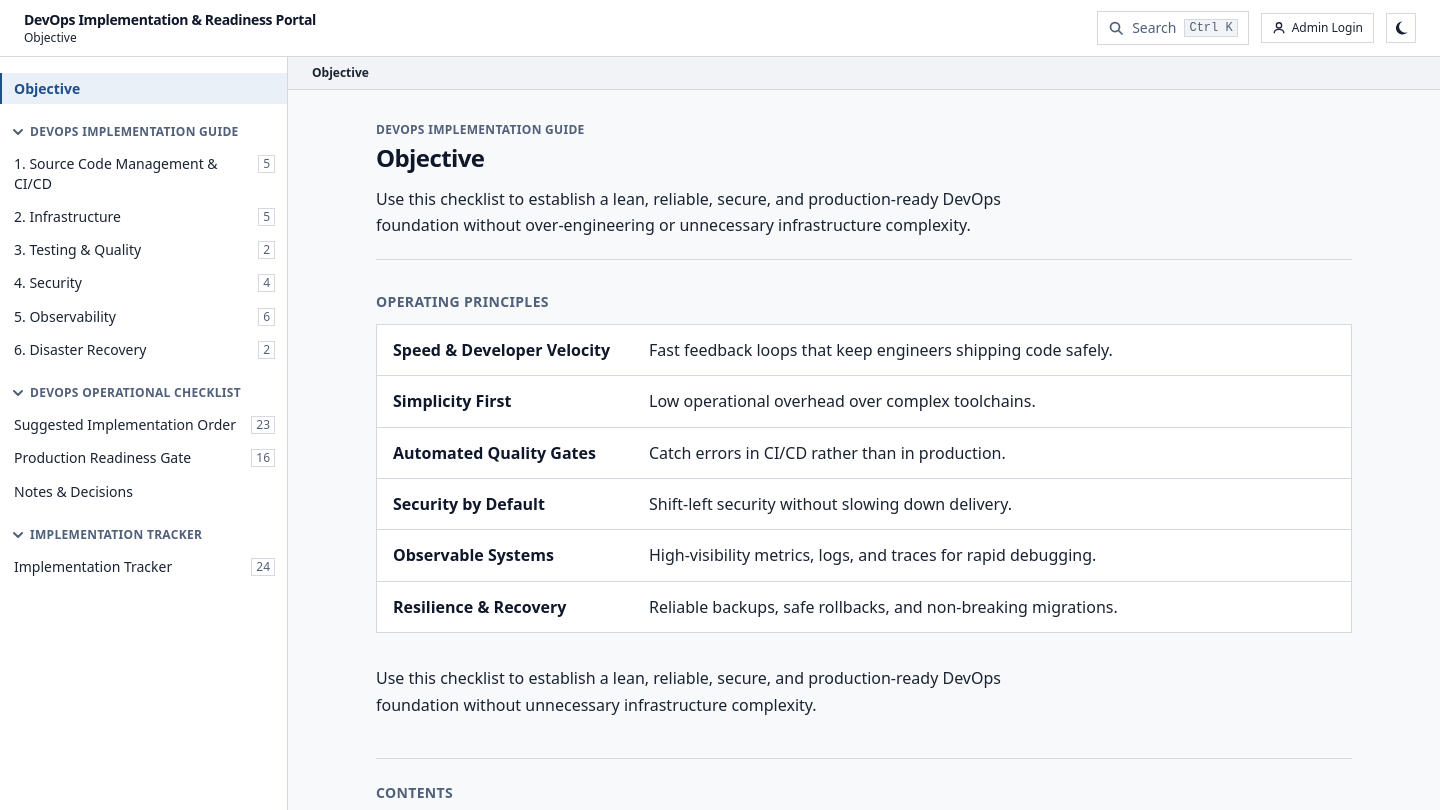
Test: Admin and Normal User Authentication & Role System › displays an error on wrong password
The image size is (1440, 810).
Click the button with aria-label "log in as administrator": {"x": 1317, "y": 28} [1261,13,1374,43]
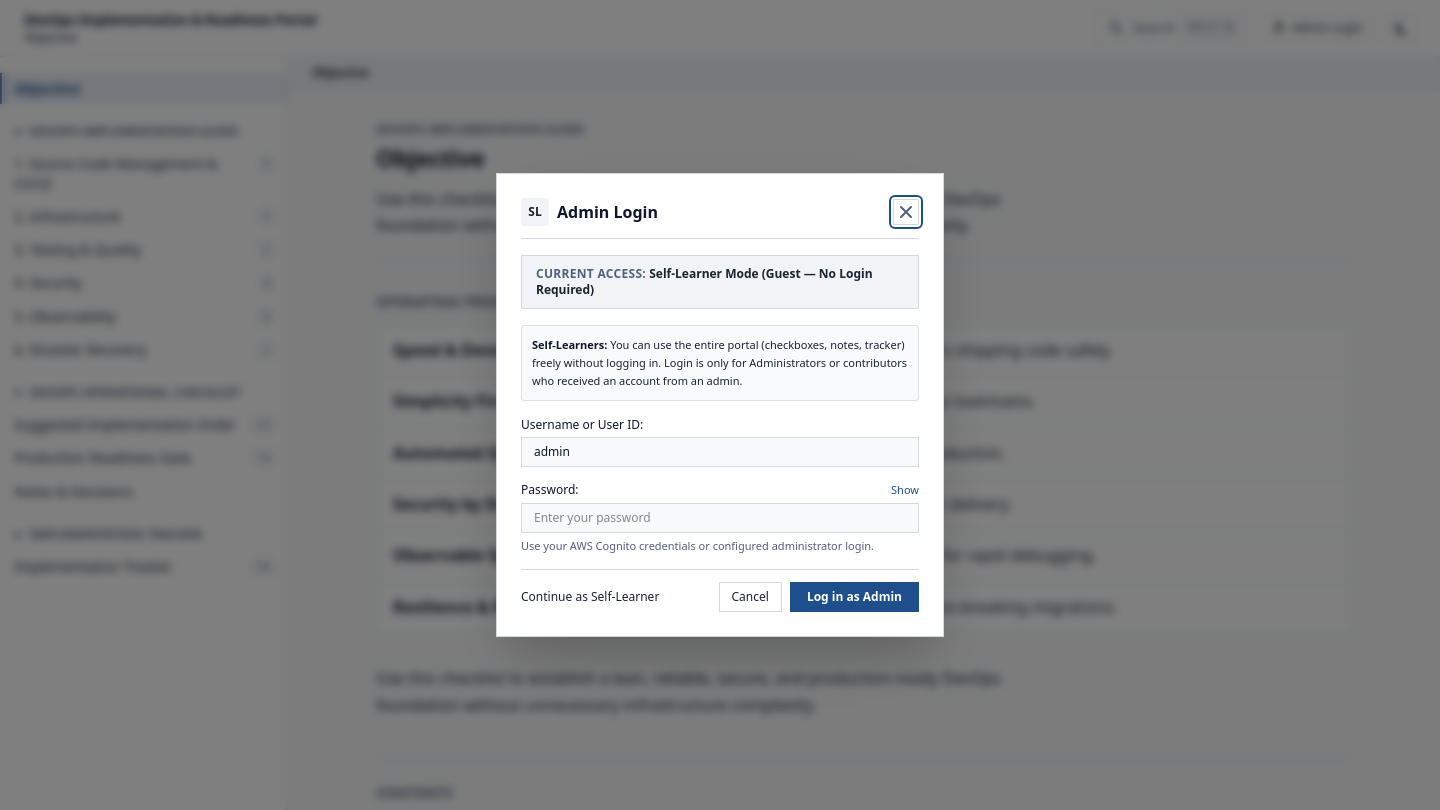
In the password field labelled "Password:": {"x": 720, "y": 518} [521,503,919,533], type "wrongpassword"
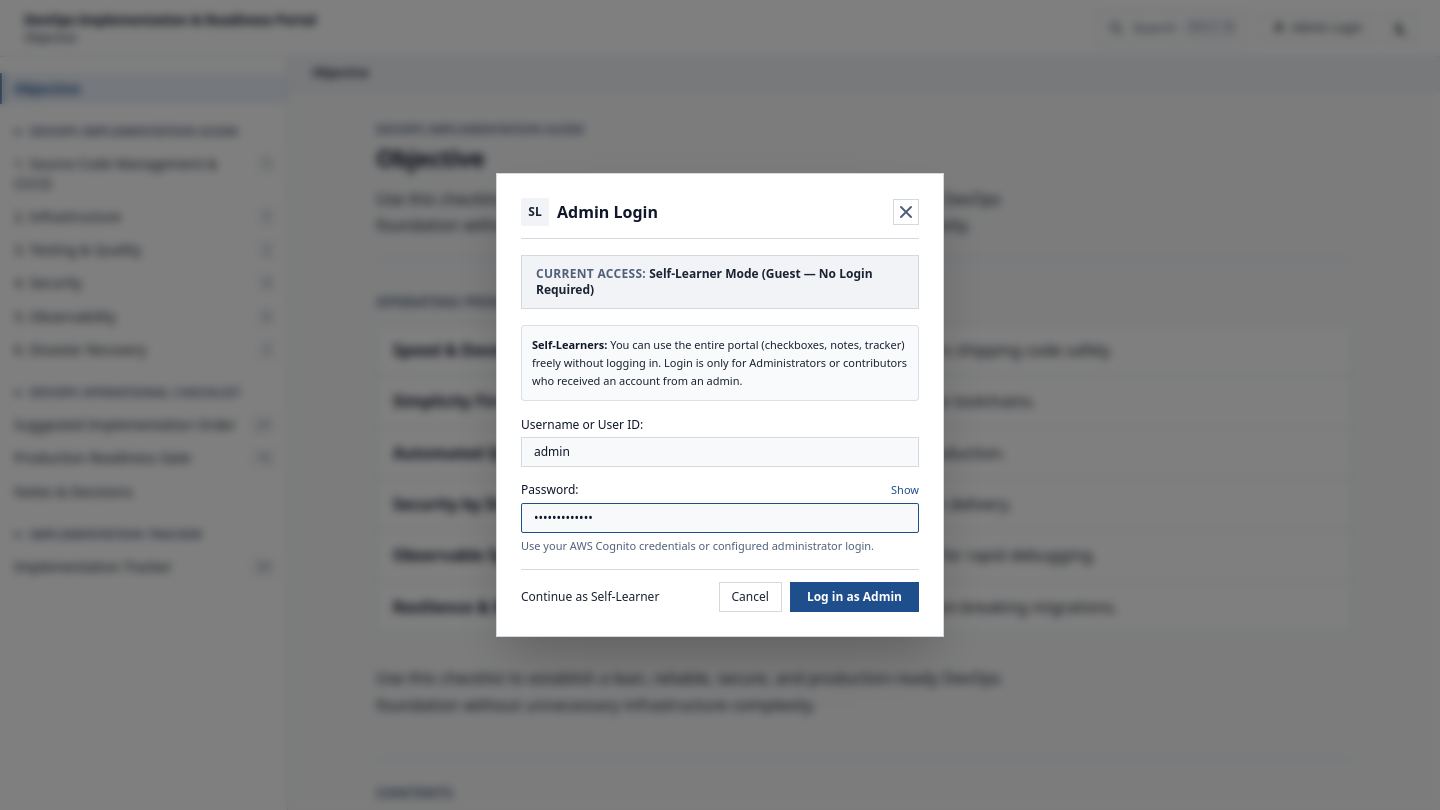
Click the button "Log in as Admin": {"x": 854, "y": 597} [790,582,919,612]
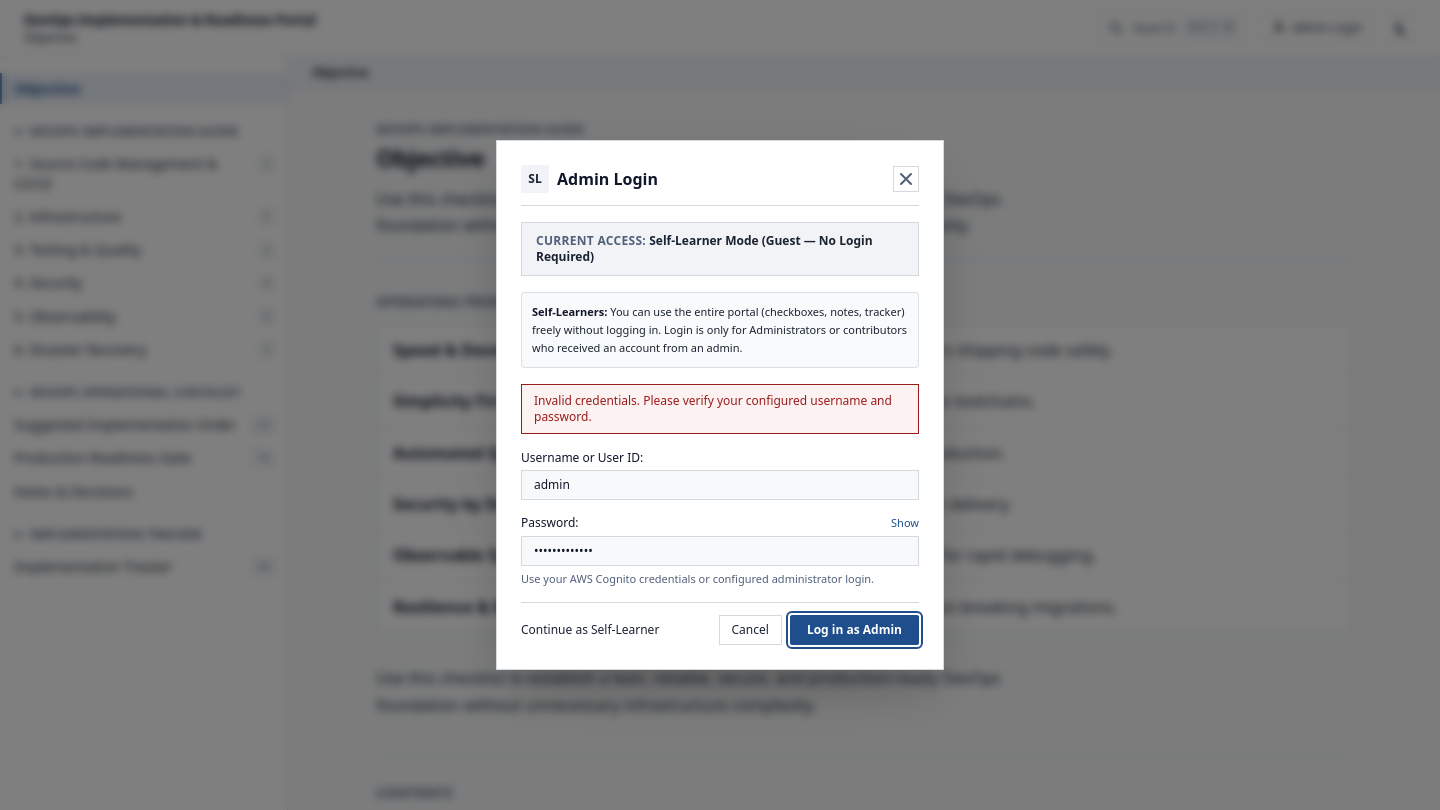
Expected: the message shows "Invalid credentials", [534,392,892,425]
